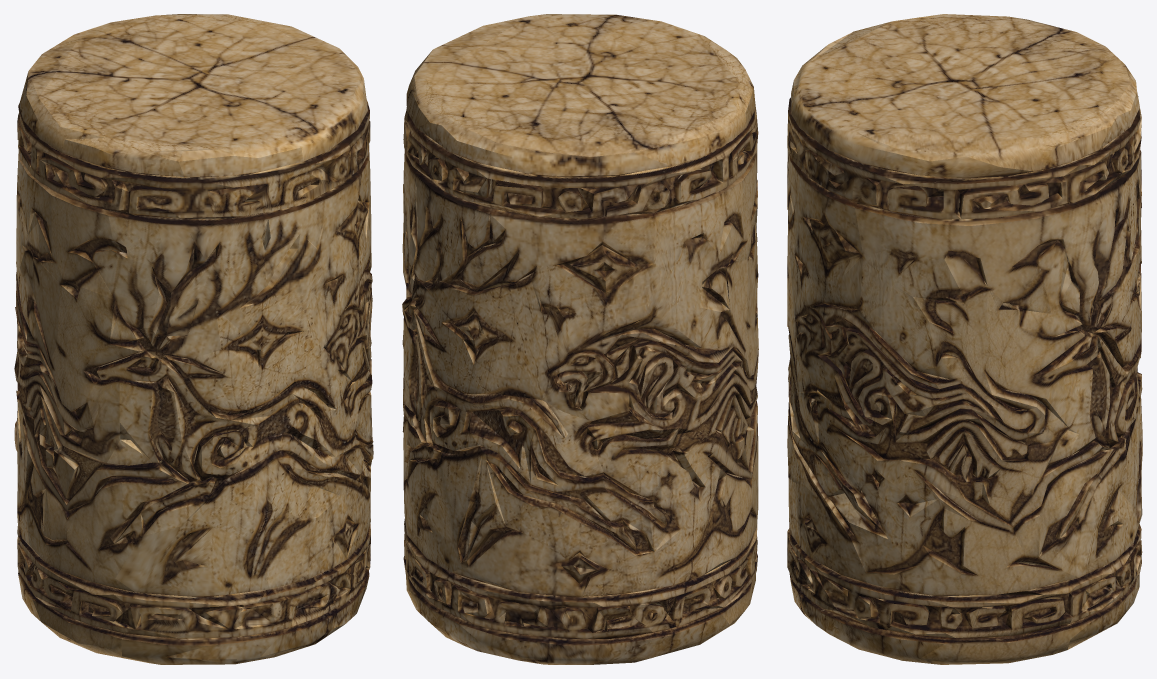
Rendered from silindir-v1.glb.
3 renders of one model, left to right at view 1: azimuth 30°, elevation 25°; view 2: azimuth 150°, elevation 25°; view 3: azimuth 270°, elevation 25°, orthographic.
Visible parts, largest first — view 1: output_unwrapped; view 2: output_unwrapped; view 3: output_unwrapped.
Boxes of the visible parts, box(x1,y1,x2,y2) form: output_unwrapped: box(14, 14, 373, 664); output_unwrapped: box(402, 14, 758, 664); output_unwrapped: box(787, 14, 1142, 664).
Bounding box in the file's own units: 1.18 × 1.9 × 1.18.
1 material, 1 textured.
